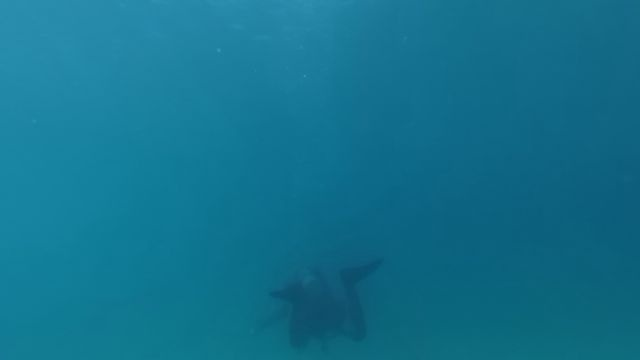Diver: (266, 259, 389, 349)
